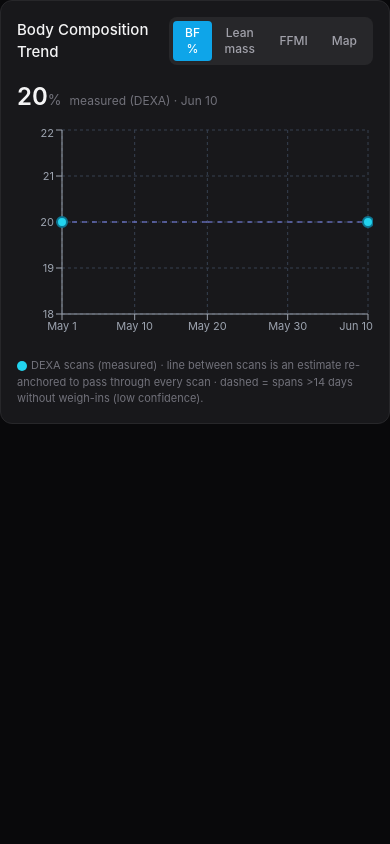
Scenario: BodyHubTrends — Composition Map › switches to the Composition Map view on toggle
The image size is (390, 844).
Click the button "Map" at (344, 41), box x1=320 y1=21 x2=369 y2=61
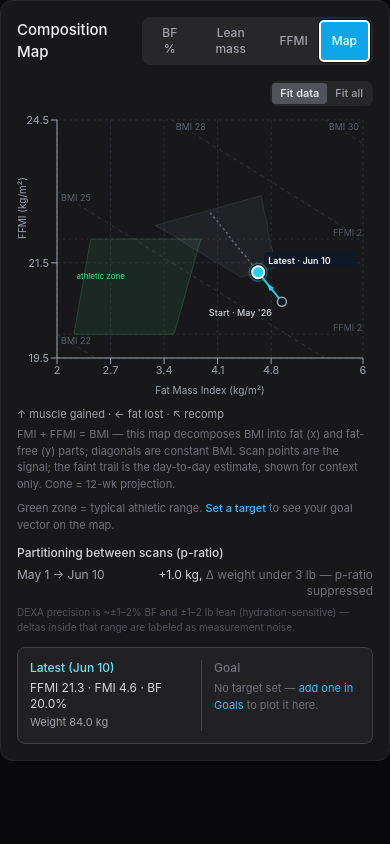
Result: the heading "Composition Map" is shown at x1=17 y1=20 x2=108 y2=61
Result: the text "FMI + FFMI = BMI" is shown at x1=17 y1=427 x2=364 y2=490
Result: the text "↑ muscle gained · ← fat lost · ↖ recomp" is shown at x1=17 y1=406 x2=224 y2=420
